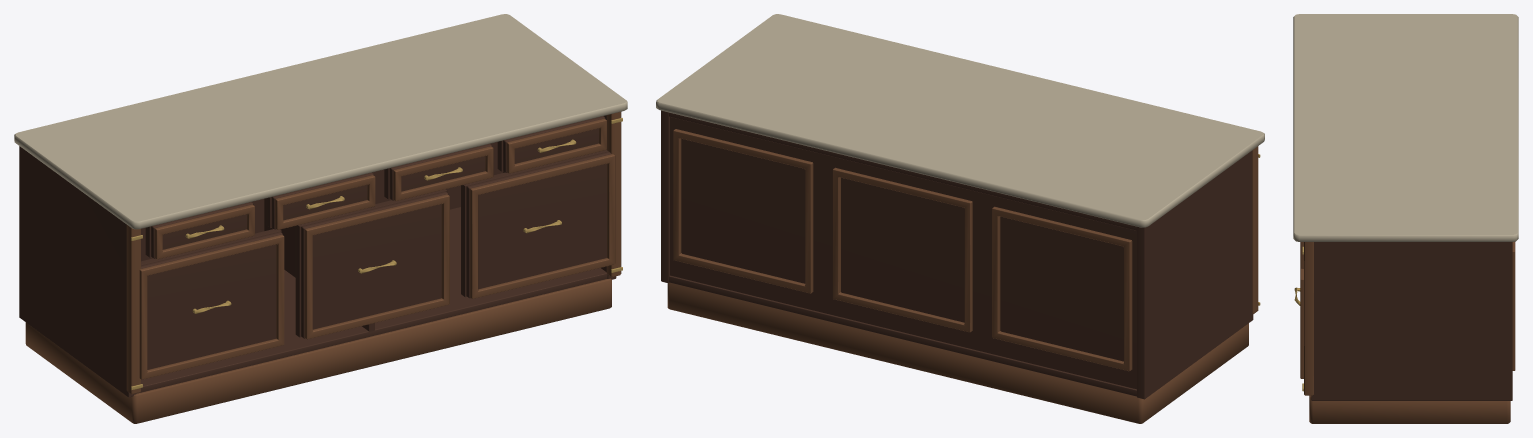
Rendered from rpg-mansion-kitchen-service-island-2100-01.glb.
The picture shows the model from 3 angles, left to right: view 1: azimuth 30°, elevation 25°; view 2: azimuth 150°, elevation 25°; view 3: azimuth 270°, elevation 25°; orthographic projection. The views are drawn at different scales.
Parts seen in each view (by area): view 1: rpg-mansion-kitchen-service-island-2100-01; view 2: rpg-mansion-kitchen-service-island-2100-01; view 3: rpg-mansion-kitchen-service-island-2100-01.
Part boxes in pixels (<box>): rpg-mansion-kitchen-service-island-2100-01: <box>14,14,627,423</box>; rpg-mansion-kitchen-service-island-2100-01: <box>656,14,1264,423</box>; rpg-mansion-kitchen-service-island-2100-01: <box>1293,14,1518,423</box>.
Bounding box in the file's own units: 2.1 × 0.85 × 0.9.
